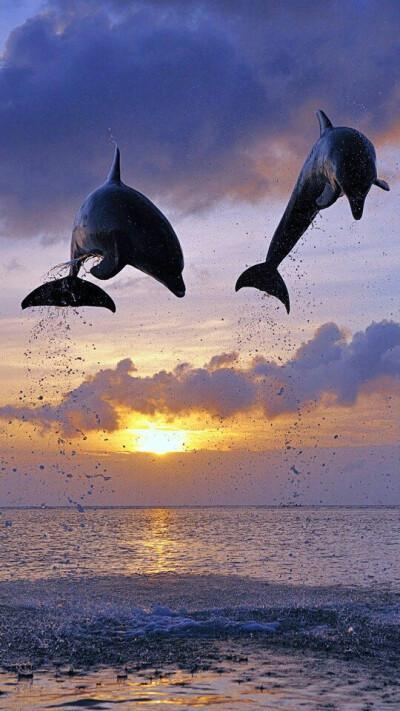fish: (231, 108, 395, 314), (17, 146, 197, 312)
